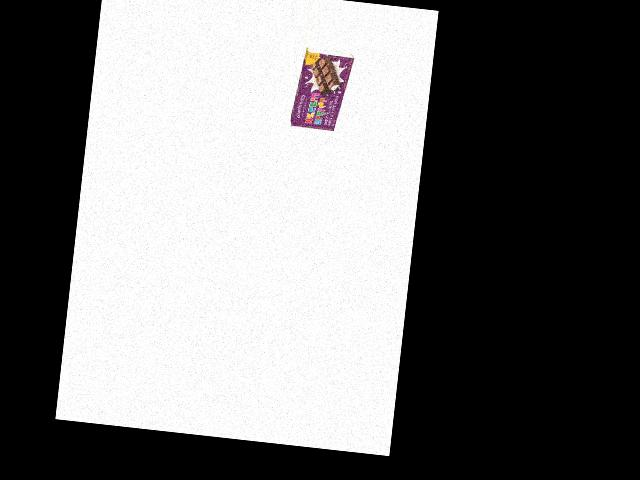chocolate: (289, 44, 351, 137)
